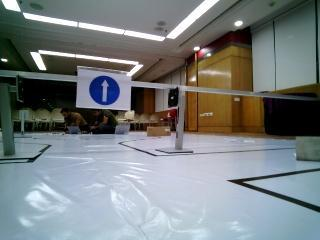straight: (80, 67, 134, 110)
